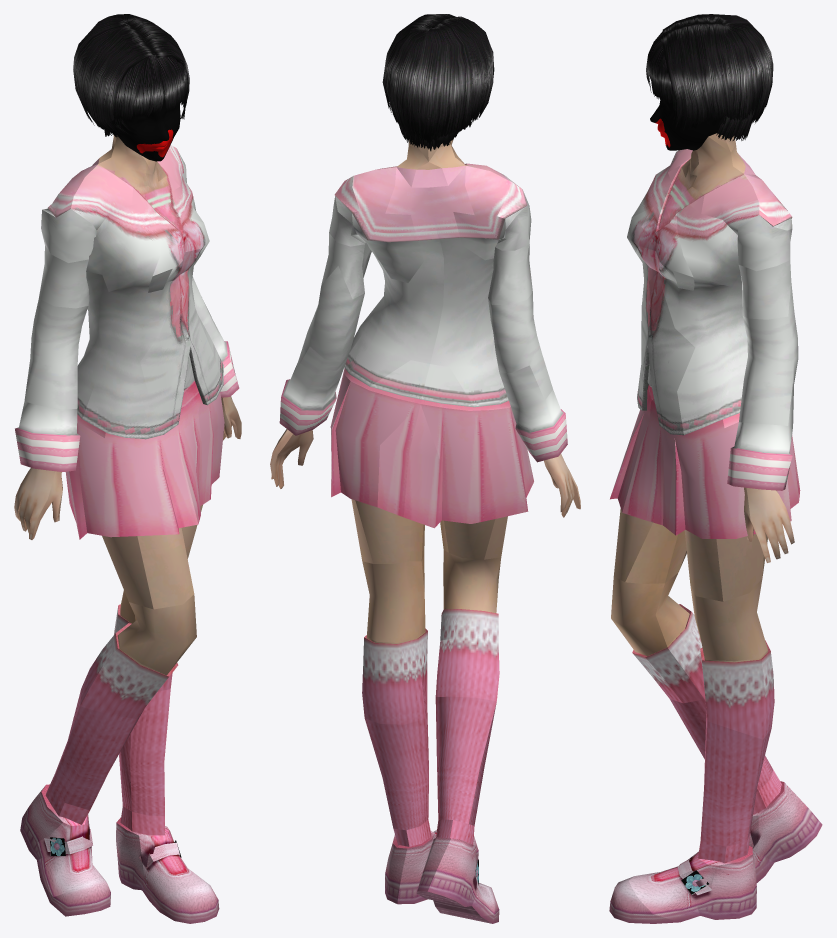
The model's file is Student2.FBX.
3 views of the same model, side by side, from view 1: azimuth 30°, elevation 25°; view 2: azimuth 150°, elevation 25°; view 3: azimuth 270°, elevation 25° (orthographic).
Parts seen in each view (by area): view 1: 1fd74bc0.obj, 1fe4a708.obj, 208bf170.obj, 1fe1bc78.obj, 1fd89260.obj, 1fd68a68.obj, 1fe19ed8.obj; view 2: 1fd74bc0.obj, 1fe4a708.obj, 1fe1bc78.obj, 208bf170.obj, 1fe19ed8.obj, 1fd89260.obj; view 3: 1fd74bc0.obj, 1fe4a708.obj, 208bf170.obj, 1fe1bc78.obj, 1fe19ed8.obj, 1fd68a68.obj.
Boxes of the visible parts, x1,y1,x2,y2 form: 1fd74bc0.obj: [15, 135, 239, 675]; 1fe4a708.obj: [51, 604, 178, 816]; 208bf170.obj: [20, 776, 219, 923]; 1fe1bc78.obj: [73, 14, 189, 137]; 1fd89260.obj: [14, 468, 62, 539]; 1fd68a68.obj: [118, 92, 180, 161]; 1fe19ed8.obj: [221, 396, 241, 440]; 1fd74bc0.obj: [279, 139, 567, 643]; 1fe4a708.obj: [362, 609, 499, 830]; 1fe1bc78.obj: [382, 14, 494, 151]; 208bf170.obj: [385, 819, 499, 923]; 1fe19ed8.obj: [270, 429, 313, 488]; 1fd89260.obj: [544, 454, 580, 517]; 1fd74bc0.obj: [610, 133, 800, 662]; 1fe4a708.obj: [632, 604, 774, 846]; 208bf170.obj: [609, 770, 822, 923]; 1fe1bc78.obj: [646, 14, 773, 140]; 1fe19ed8.obj: [744, 487, 794, 562]; 1fd68a68.obj: [650, 97, 722, 150].
Bounding box in the file's own units: 0.5371 × 1.74 × 0.3772.
